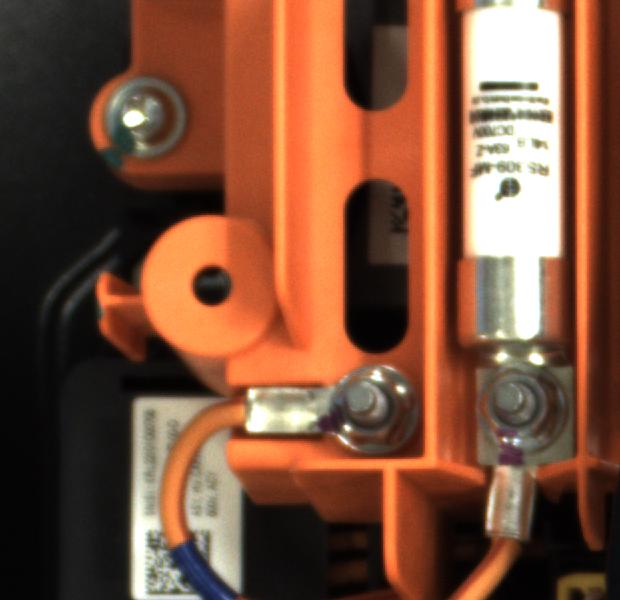screw_m: (94, 69, 202, 168)
screw_s: (318, 359, 426, 450), (472, 358, 577, 451)
